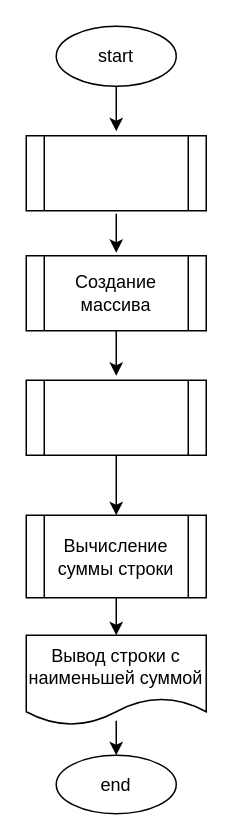
Some shapes in this 233 by 840 pixel diagram are drawn without their labels. Here are the shapes that lost their labels. From the top down, the box of each, then its label:
(25, 134, 206, 211): Ввод m, n - размер массива
(25, 379, 206, 455): Печать массива
